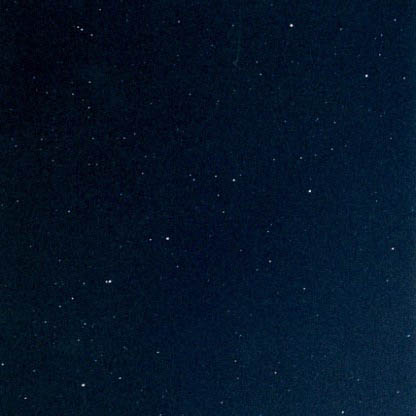Ursa Major: (156, 219, 178, 256), (99, 267, 126, 295), (224, 168, 247, 196), (300, 179, 325, 201), (75, 369, 94, 397), (277, 15, 301, 37), (361, 63, 378, 92)
